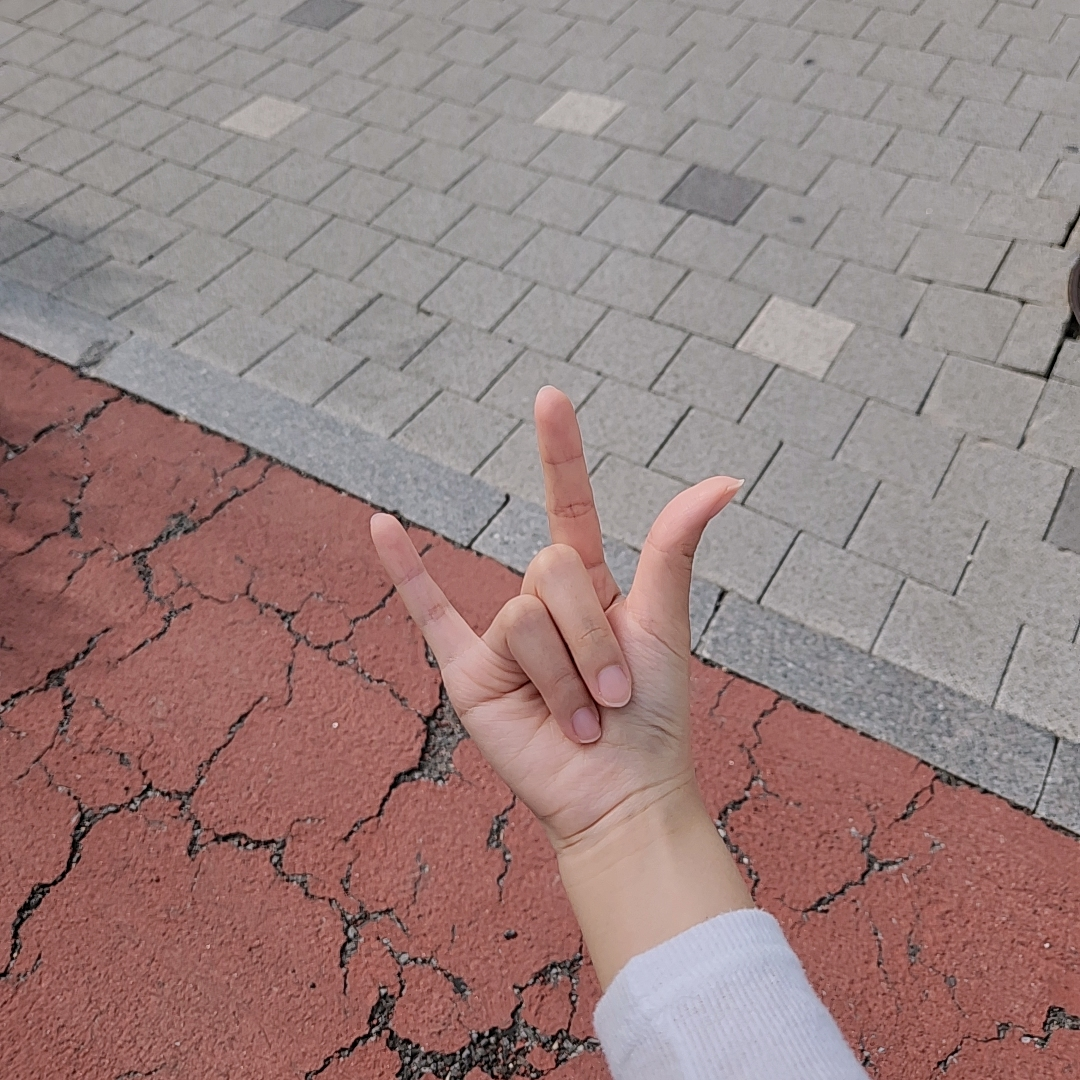iloveyou: (368, 384, 746, 811)
